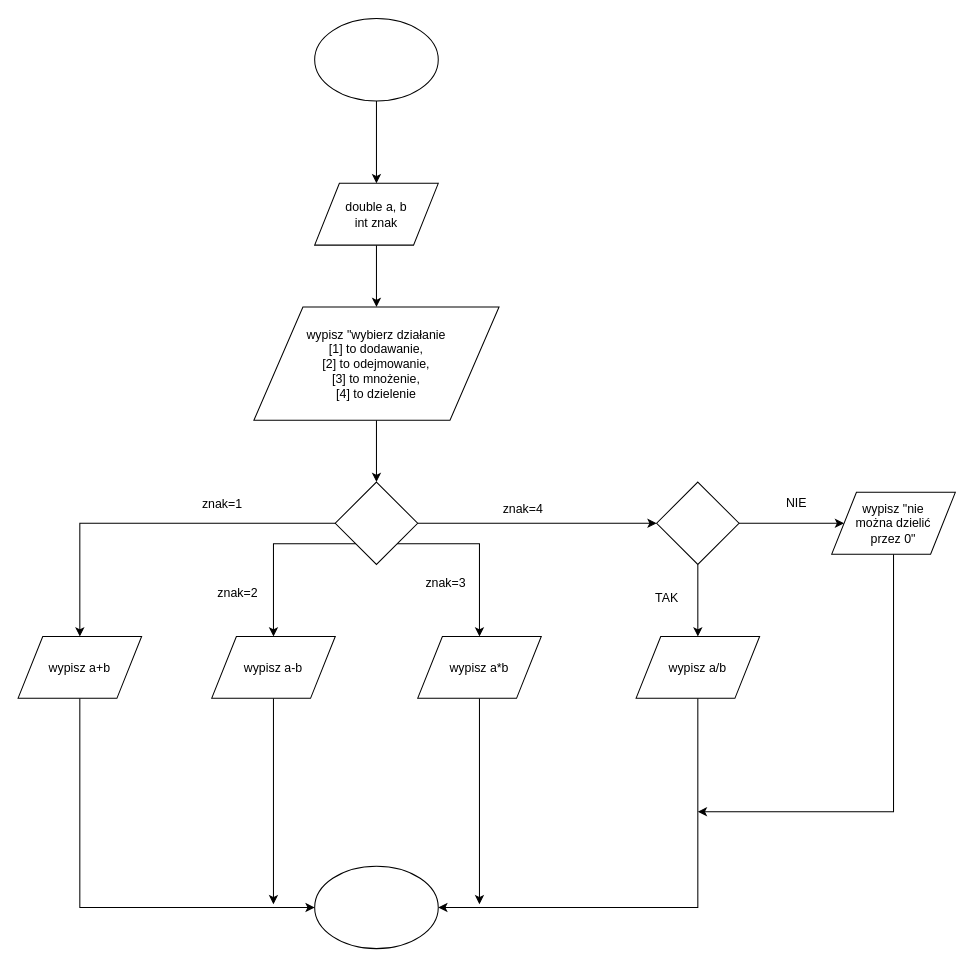
This 973x966 diagram has some shape labels left out. Each missing label, with the box of its shape:
b!=0: (656, 481, 739, 564)
START: (314, 18, 438, 101)
STOP: (314, 865, 438, 949)
znak: (334, 481, 418, 564)
